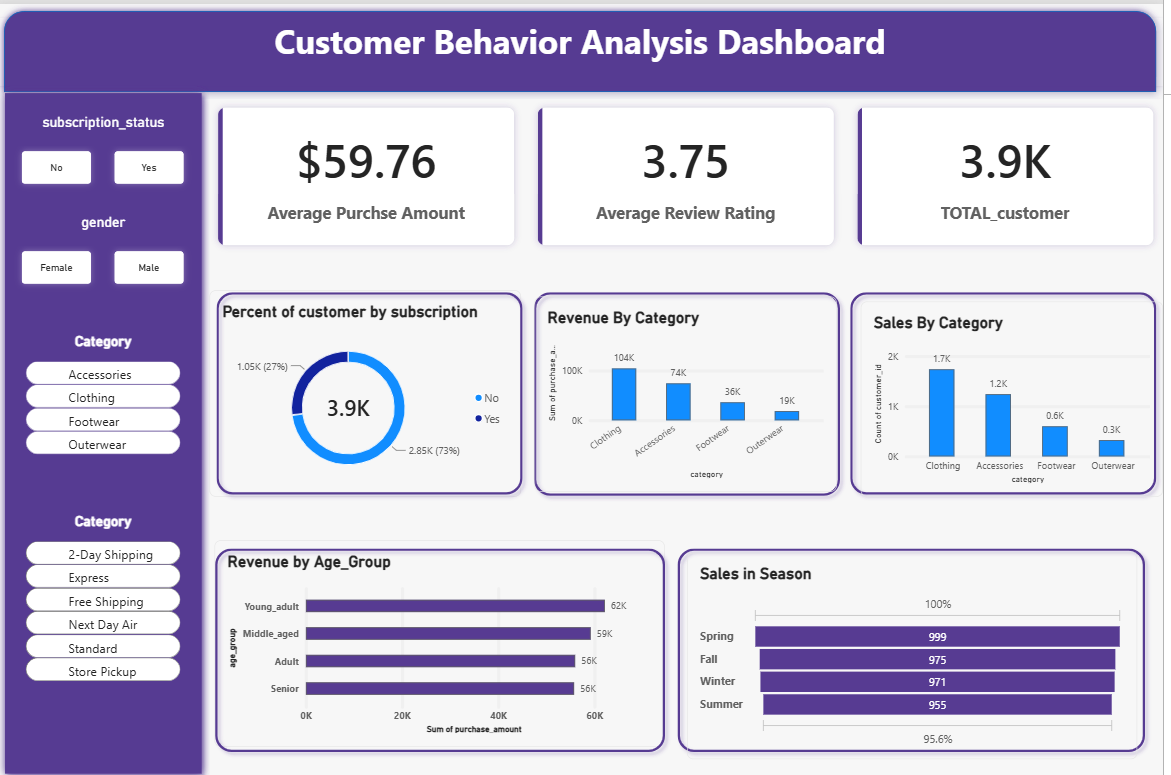

The dashboard page shown, as its layout file describes it:
{"tool":"powerbi","page":{"name":"Page 1","canvas":[1500,1000],"ordinal":0},"visuals":[{"type":"cardVisual","fields":{"Data":["measure.Average Purchse Amount","measure.Average Review Rating","measure.TOTAL_customer"]},"box":[273.4,122.2,1227,199.4],"z":2},{"type":"shape","box":[0,0,1500.3,122.2],"z":3},{"type":"textbox","box":[801,55,516,150],"z":4},{"type":"textbox","box":[1327,55,516,150],"z":5},{"type":"textbox","box":[0,17.7,1500.3,86.8],"z":6},{"type":"donutChart","title":"Percent of customer by subscription","fields":{"Category":["customer_behaviordb customer_table.subscription_status"],"Y":["CountNonNull(customer_behaviordb customer_table.customer_id)"]},"box":[273.4,368.2,400.4,265.3],"z":7},{"type":"shape","box":[273.4,361.8,411.7,278.2],"z":8},{"type":"shape","box":[681.8,361.8,411.7,279.8],"z":13},{"type":"shape","box":[1088.7,361.8,411.7,278.2],"z":14},{"type":"columnChart","title":"Revenue By Category","fields":{"Category":["customer_behaviordb customer_table.category"],"Y":["Sum(customer_behaviordb customer_table.purchase_amount)"]},"box":[691.5,376.3,389.2,250.9],"z":15},{"type":"columnChart","title":"Sales By Category","fields":{"Category":["customer_behaviordb customer_table.category"],"Y":["CountNonNull(customer_behaviordb customer_table.customer_id)"]},"box":[1111.2,382.7,389.2,250.9],"z":16},{"type":"shape","box":[0,104.5,273.4,895.7],"z":17},{"type":"advancedSlicerVisual","fields":{"Values":["customer_behaviordb customer_table.subscription_status"]},"box":[20.9,141.5,231.6,101.3],"z":18},{"type":"advancedSlicerVisual","fields":{"Values":["customer_behaviordb customer_table.gender"]},"box":[20.9,270.2,231.6,101.3],"z":19},{"type":"listSlicer","title":"Category","fields":{"Values":["customer_behaviordb customer_table.category"]},"box":[20.9,408.4,231.6,207.4],"z":21},{"type":"listSlicer","title":"Category","fields":{"Values":["customer_behaviordb customer_table.shipping_type"]},"box":[20.9,640,231.6,284.6],"z":22},{"type":"clusteredBarChart","title":"Revenue by Age_Group","fields":{"Category":["customer_behaviordb customer_table.age_group"],"Y":["Sum(customer_behaviordb customer_table.purchase_amount)"]},"box":[279.8,689.9,578.9,265.3],"z":24},{"type":"shape","box":[866.7,691.5,619.1,279.8],"z":26},{"type":"shape","box":[271.8,691.5,596.6,279.8],"z":28},{"type":"funnel","title":"Sales in Season","fields":{"Category":["customer_behaviordb customer_table.season"],"Y":["CountNonNull(customer_behaviordb customer_table.item_purchased)"]},"box":[887.7,705.9,578.9,265.3],"z":30}]}

Visuals, with their boxes in screenshot pixels (x1, y1, x2, y2), scaled from the page's 1500x1000 canvas onto the 1171x775 screenshot:
cardVisual - measure.Average Purchse Amount x measure.Average Review Rating: [213,95,1170,249]
shape: [0,0,1170,95]
textbox: [625,43,1028,159]
textbox: [1036,43,1170,159]
textbox: [0,14,1170,81]
"Percent of customer by subscription" donutChart: [213,285,526,491]
shape: [213,280,535,496]
shape: [532,280,854,497]
shape: [850,280,1170,496]
"Revenue By Category" columnChart: [540,292,844,486]
"Sales By Category" columnChart: [867,297,1170,491]
shape: [0,81,213,774]
advancedSlicerVisual - customer_behaviordb customer_table.subscription_status: [16,110,197,188]
advancedSlicerVisual - customer_behaviordb customer_table.gender: [16,209,197,288]
"Category" listSlicer: [16,317,197,477]
"Category" listSlicer: [16,496,197,717]
"Revenue by Age_Group" clusteredBarChart: [218,535,670,740]
shape: [677,536,1160,753]
shape: [212,536,678,753]
"Sales in Season" funnel: [693,547,1145,753]
